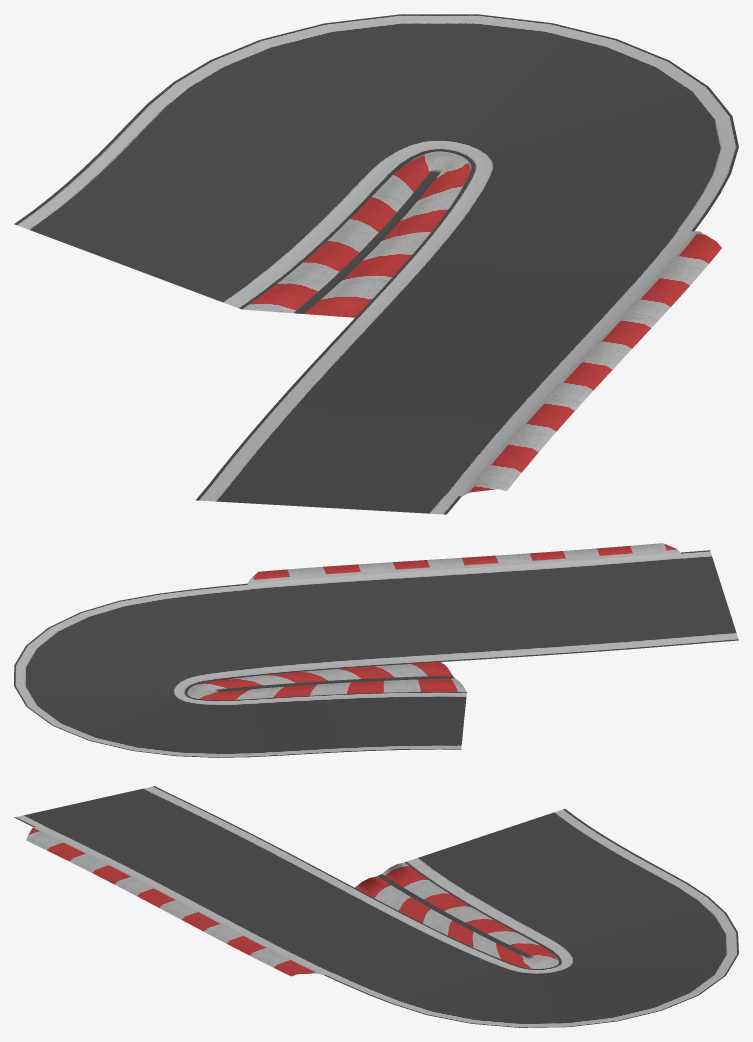
File: sm_road.001.fbx
The picture shows the model from 3 angles, top to bottom: view 1: azimuth 30°, elevation 25°; view 2: azimuth 150°, elevation 25°; view 3: azimuth 270°, elevation 25°; orthographic projection. The views are drawn at different scales.
Visible parts, largest first — view 1: sm_road.016; view 2: sm_road.016; view 3: sm_road.016.
Part boxes in pixels (<box>): sm_road.016: <box>14,14,738,514</box>; sm_road.016: <box>14,543,738,757</box>; sm_road.016: <box>14,786,738,1027</box>.
Size of the model in its own units: 49.2 by 1.72 by 58.13.
